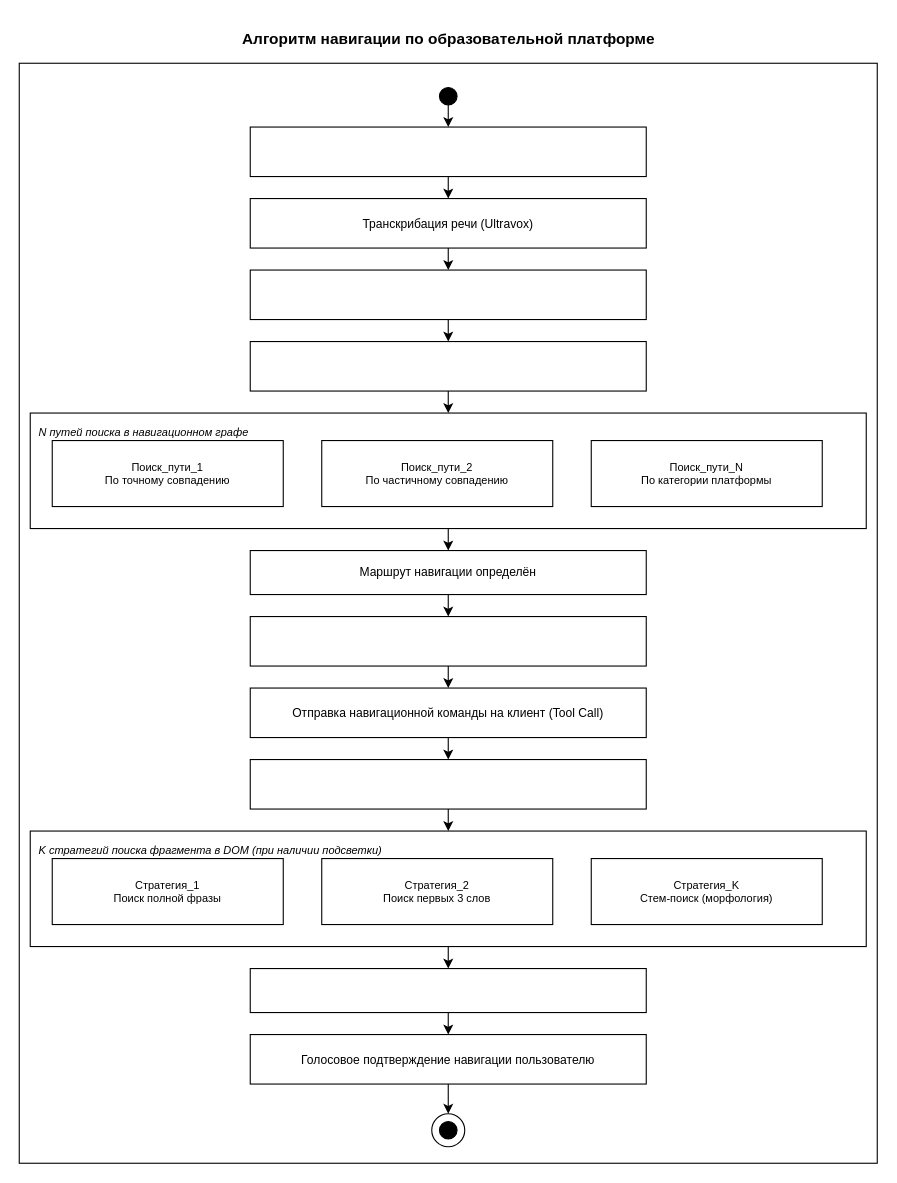
The diagram is 897 pixels wide and 1183 high, and some of its shapes have lost their labels. Here are the shapes that lost their labels. From the top down, the centre of each, then its label:
pixel 447 151: Получение голосового запроса пользователя
pixel 447 294: Анализ намерения и выявление навигационного запроса (LLM)
pixel 447 365: Определение целевого раздела образовательной платформы
pixel 447 640: Формирование команды навигации (path, aihl)
pixel 447 783: Выполнение перехода на целевую страницу (router.push)
pixel 447 990: Фрагмент обнаружен и подсвечен (ai-highlight-block)
